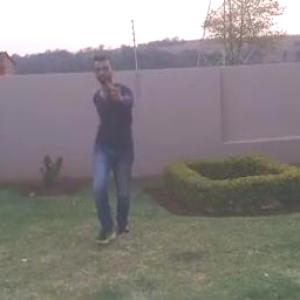takeoff-hand: (107, 75, 131, 107)
